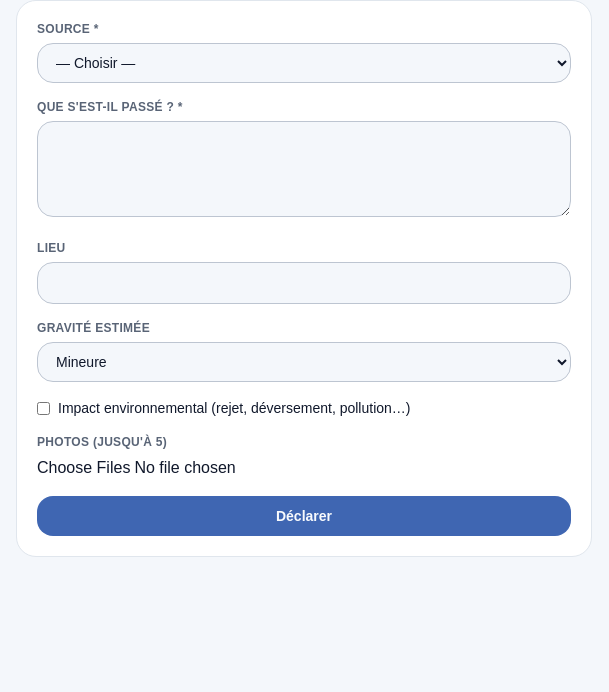
Test case: déclaration rapide › conserve la déclaration sur l'appareil quand le réseau est indisponible
Select "Signalement" in the dropdown labelled "Source *" at (304, 63), box top-left (37, 43), bottom-right (571, 83)
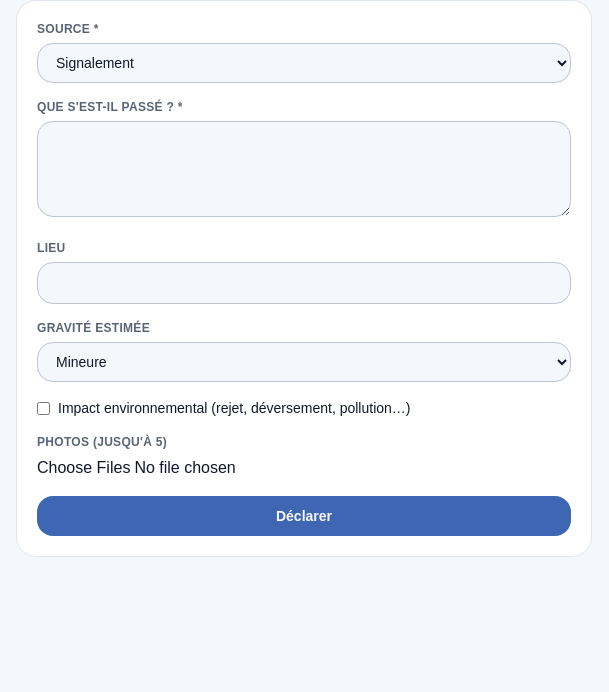
Type "Bidons de solvant sans bac de rétention." into the text box labelled "Que s'est-il passé ? *" at (304, 169), box top-left (37, 121), bottom-right (571, 217)
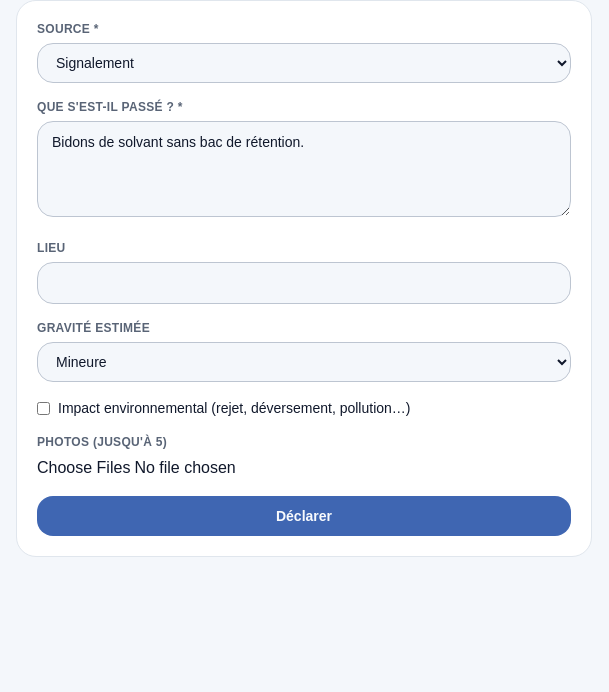
Click the button "Déclarer" at (304, 516), box top-left (37, 496), bottom-right (571, 536)
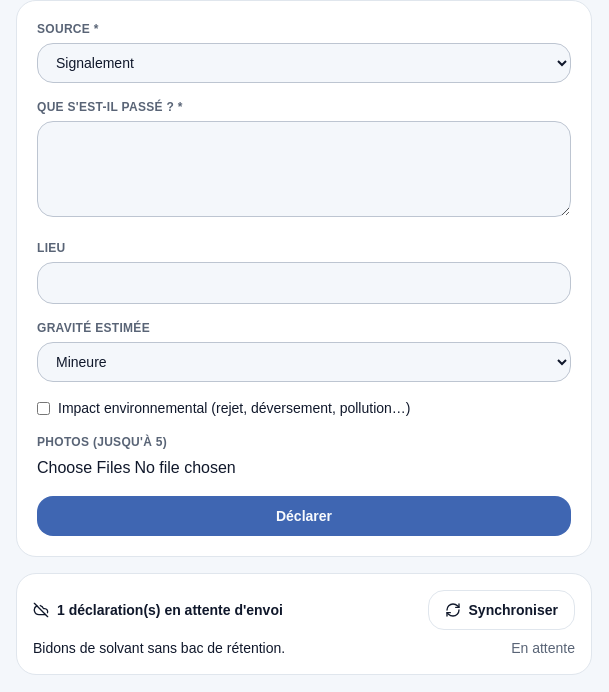
Now the text "1 déclaration(s) en attente d'envoi" is shown, box top-left (33, 600), bottom-right (283, 620)
